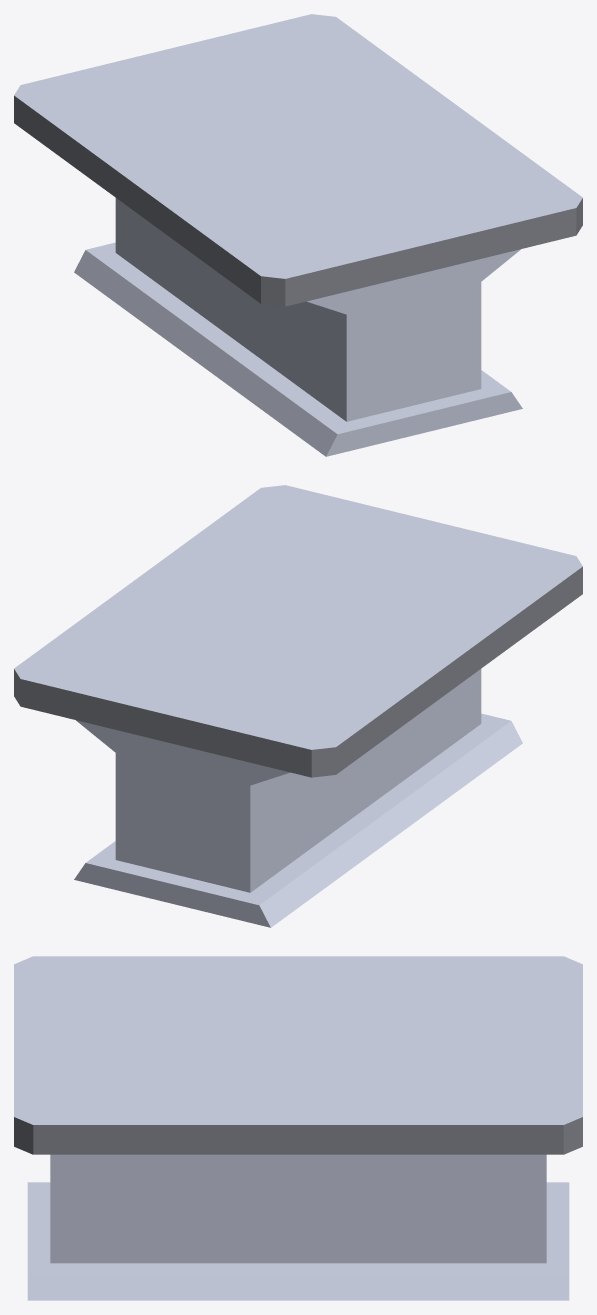
File: spaceInterior_022.obj
The picture shows the model from 3 angles, top to bottom: view 1: azimuth 30°, elevation 25°; view 2: azimuth 150°, elevation 25°; view 3: azimuth 270°, elevation 25°; orthographic projection. The views are drawn at different scales.
Parts seen in each view (by area): view 1: Mesh1 Group1 Model; view 2: Mesh1 Group1 Model; view 3: Mesh1 Group1 Model.
Part boxes in pixels (x1,y1,x2,y2): Mesh1 Group1 Model: (14,14,582,456); Mesh1 Group1 Model: (14,485,582,927); Mesh1 Group1 Model: (14,956,582,1300).
Size of the model in its own units: 0.7062 by 0.4066 by 1.01.
